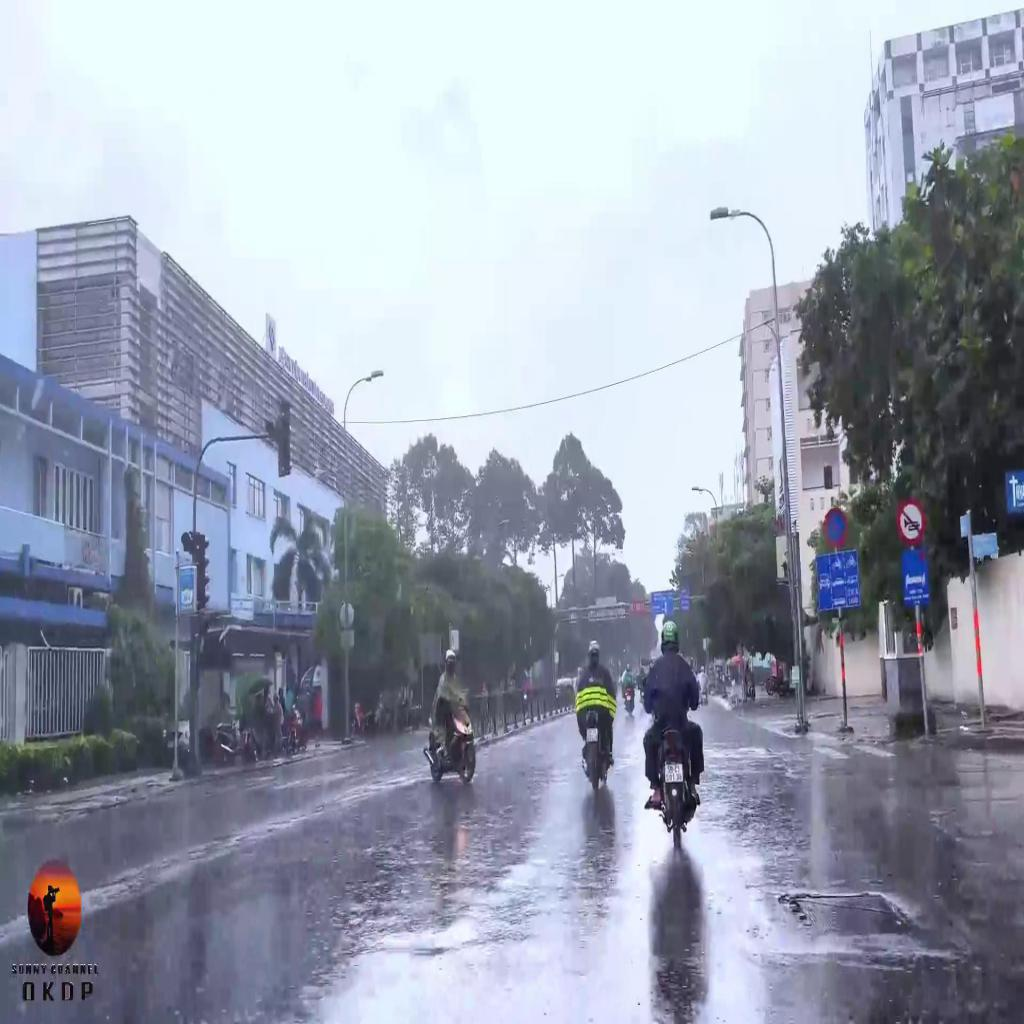cam_do_xe: (822, 503, 849, 548)
cam_su_dung_coi: (898, 498, 926, 542)
khac: (903, 547, 930, 606)
lan_duong_cho_tung_xe_theo_vach_ke_duong: (817, 551, 860, 610)
